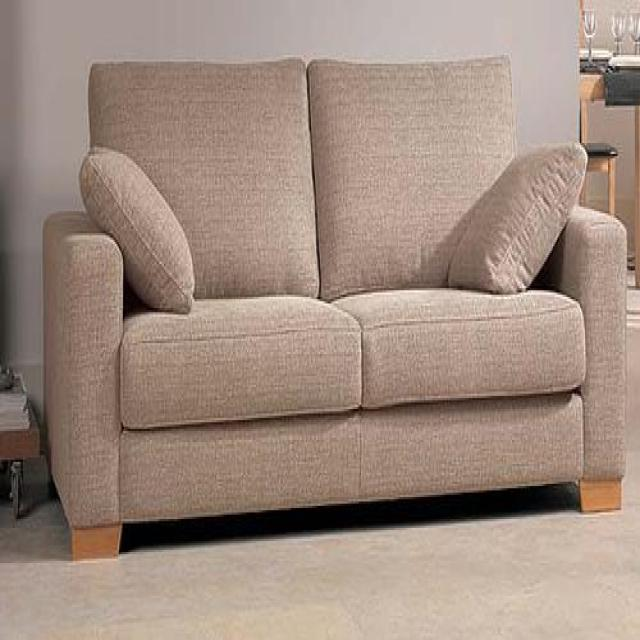sofa: (45, 58, 628, 566)
